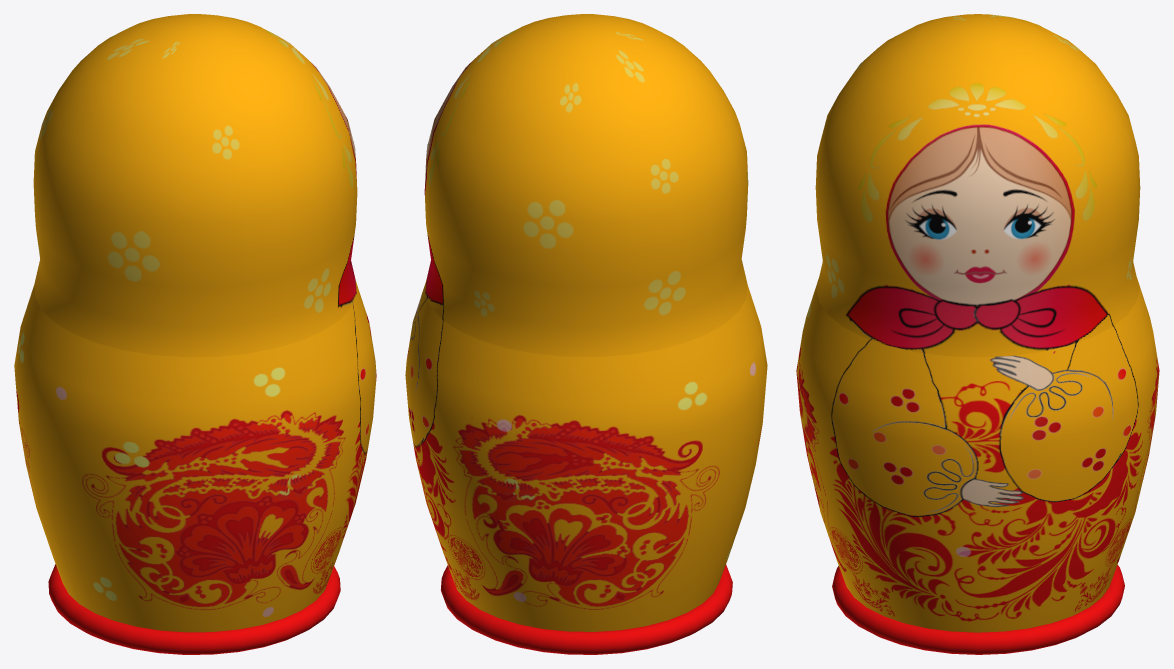
The model's file is FM_H_Doll_BH_Doll_02_001.fbx.
3 views of the same model, side by side, from view 1: azimuth 30°, elevation 25°; view 2: azimuth 150°, elevation 25°; view 3: azimuth 270°, elevation 25° (orthographic).
Visible parts, largest first — view 1: FM_H_Doll_BH_Doll_02_001; view 2: FM_H_Doll_BH_Doll_02_001; view 3: FM_H_Doll_BH_Doll_02_001.
Boxes of the visible parts, x1,y1,x2,y2 form: FM_H_Doll_BH_Doll_02_001: (14,14,376,654); FM_H_Doll_BH_Doll_02_001: (405,14,767,654); FM_H_Doll_BH_Doll_02_001: (796,14,1159,654).
Size of the model in its own units: 8.94 by 15.42 by 8.94.
